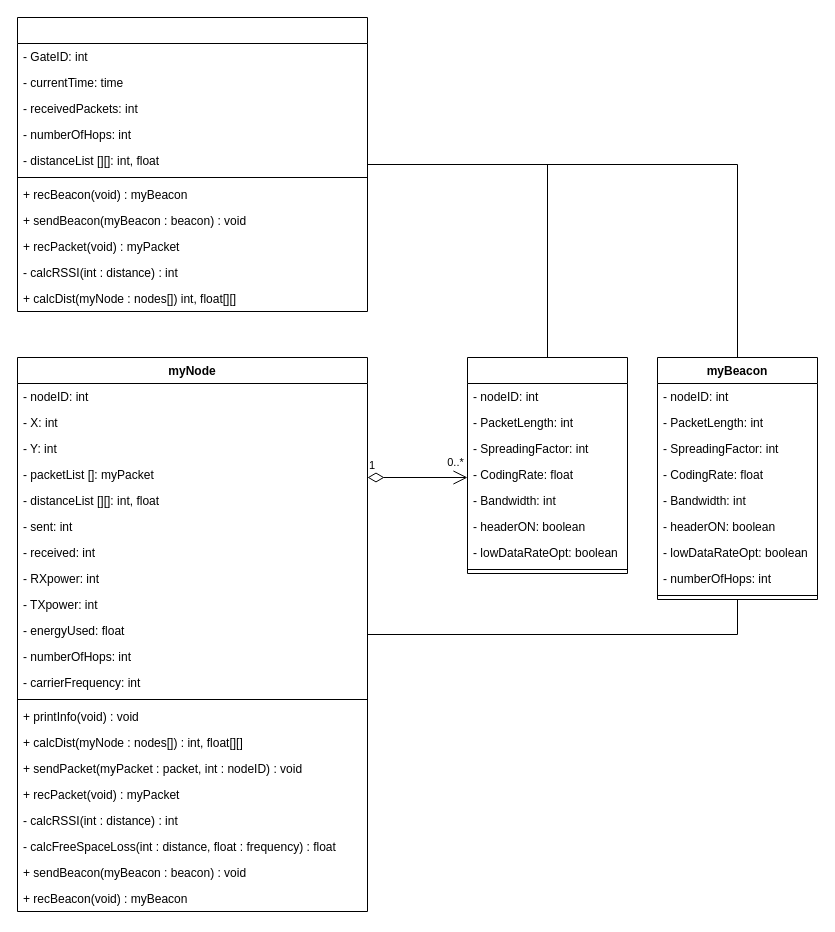
The diagram is 835 pixels wide and 932 high, and some of its shapes have lost their labels. Here are the shapes that lost their labels. From the top down, the box of each, then its label:
(16, 16, 368, 312): myGateway
(466, 356, 628, 574): myPacket
